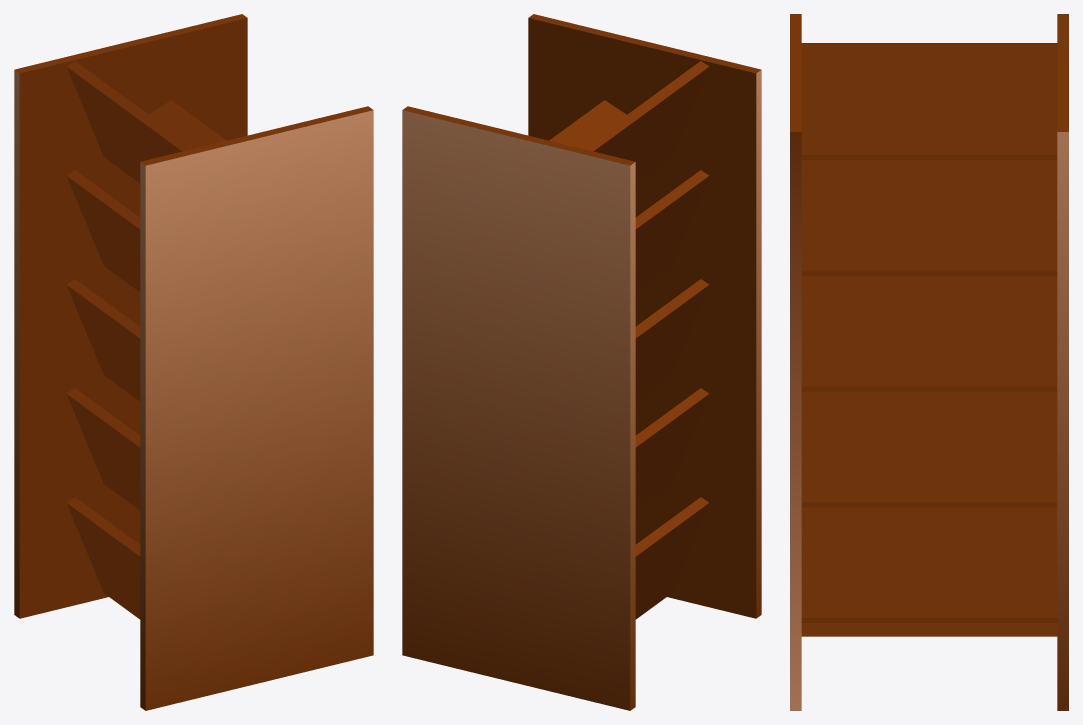
The model's file is Wall_Shelf_B.obj.
3 renders of one model, left to right at view 1: azimuth 30°, elevation 25°; view 2: azimuth 150°, elevation 25°; view 3: azimuth 270°, elevation 25°, orthographic. The views are drawn at different scales.
Parts seen in each view (by area): view 1: Wall_Shelf_B_Cube.022; view 2: Wall_Shelf_B_Cube.022; view 3: Wall_Shelf_B_Cube.022.
Part boxes in pixels (x1,y1,x2,y2): Wall_Shelf_B_Cube.022: (14,14,373,710); Wall_Shelf_B_Cube.022: (402,14,761,710); Wall_Shelf_B_Cube.022: (790,14,1068,710).
Bounding box in the file's own units: 2 × 4.57 × 2.
